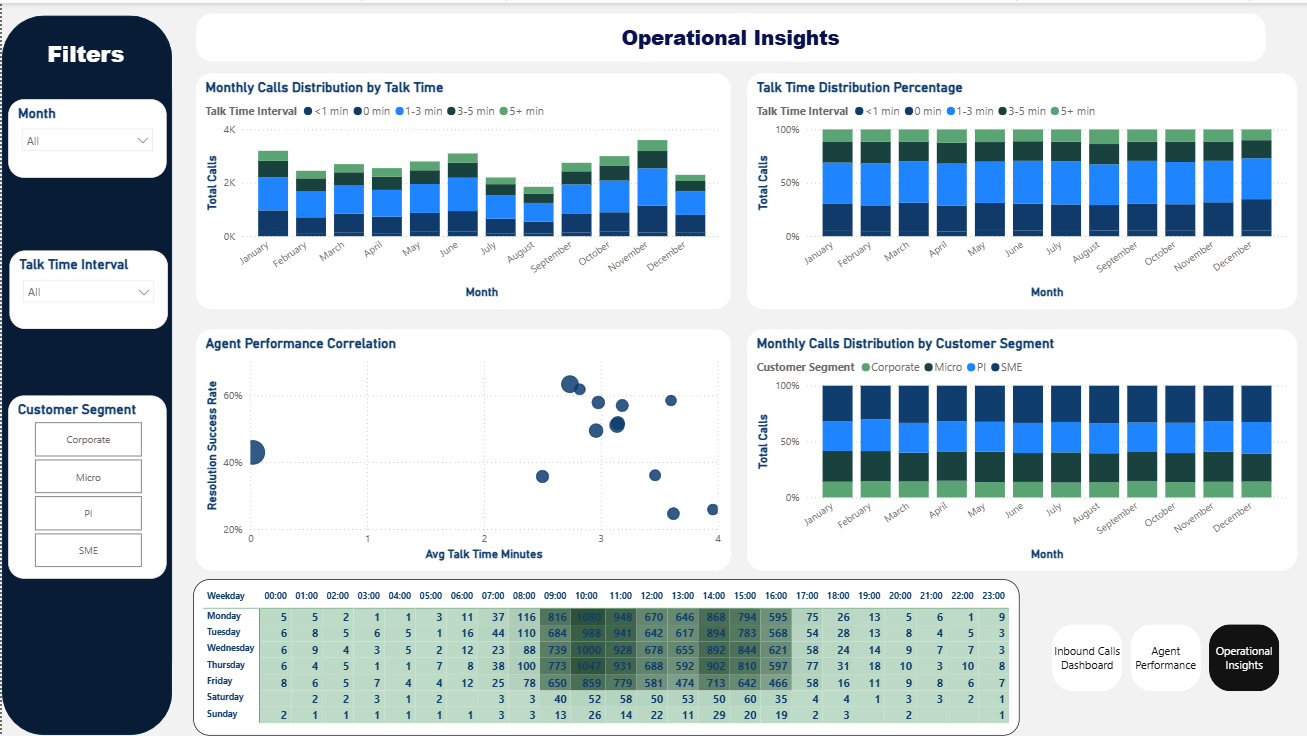

Layout of this report page (visuals, bound fields, positions):
{"tool":"powerbi","page":{"name":"Operational Insights","canvas":[1600,900],"ordinal":2},"visuals":[{"type":"textbox","box":[236.9,12.2,1308.4,59.6],"z":0},{"type":"shape","box":[0,16,208,880],"z":1000},{"type":"slicer","title":"Month","fields":{"Values":["Sheet1.MonthYear"]},"box":[7.1,117.3,193.8,96],"z":2000},{"type":"slicer","title":"Customer Segment","fields":{"Values":["Sheet1.CustomerSegment"]},"box":[7.1,480,193.8,224],"z":3000},{"type":"textbox","box":[39.7,38.2,125.3,65.7],"z":4000},{"type":"slicer","title":"Talk Time Interval","fields":{"Values":["Sheet1.TalkTimeInterval"]},"box":[8.9,302.2,193.8,96],"z":5000},{"type":"columnChart","title":"Monthly Calls Distribution by Talk Time","fields":{"Category":["Sheet1.CallDate.Variation.Date Hierarchy.Month"],"Y":["CountNonNull(Sheet1.CallID)"],"Series":["Sheet1.TalkTimeInterval"]},"box":[236.9,85.6,654.2,288.9],"z":6000},{"type":"hundredPercentStackedColumnChart","title":"Talk Time Distribution Percentage","fields":{"Category":["Sheet1.CallDate.Variation.Date Hierarchy.Month"],"Y":["CountNonNull(Sheet1.CallID)"],"Series":["Sheet1.TalkTimeInterval"]},"box":[911,85.6,672.6,288.9],"z":7000},{"type":"scatterChart","title":"Agent Performance Correlation","fields":{"X":["Sheet1.Avg Talk Time Minutes"],"Y":["Sheet1.Resolution Success Rate"],"Size":["Sheet1.Total Calls"],"Category":["Sheet1.AgentName"]},"box":[236.9,398.9,654.2,295],"z":8000},{"type":"pivotTable","fields":{"Rows":["Sheet1.Weekday"],"Columns":["Sheet1.HourLabel1"],"Values":["CountNonNull(Sheet1.CallID)"]},"box":[233.9,704.7,1010.4,191.1],"z":9000},{"type":"hundredPercentStackedColumnChart","title":"Monthly Calls Distribution by Customer Segment","fields":{"Category":["Sheet1.CallDate.Variation.Date Hierarchy.Month"],"Y":["CountNonNull(Sheet1.CallID)"],"Series":["Sheet1.CustomerSegment"]},"box":[911,398.9,672.6,295],"z":10000},{"type":"pageNavigator","box":[1284,759.7,278.2,82.5],"z":11000}]}

Visuals, with their boxes in screenshot pixels (x1, y1, x2, y2), scaled from the page's 1600x900 canvas onto the 1307x736 screenshot:
textbox: 194 10 1262 59
shape: 0 13 170 733
"Month" slicer: 6 96 164 174
"Customer Segment" slicer: 6 393 164 576
textbox: 32 31 135 85
"Talk Time Interval" slicer: 7 247 166 326
"Monthly Calls Distribution by Talk Time" columnChart: 194 70 728 306
"Talk Time Distribution Percentage" hundredPercentStackedColumnChart: 744 70 1294 306
"Agent Performance Correlation" scatterChart: 194 326 728 567
pivotTable - Sheet1.Weekday x Sheet1.HourLabel1: 191 576 1016 733
"Monthly Calls Distribution by Customer Segment" hundredPercentStackedColumnChart: 744 326 1294 567
pageNavigator: 1049 621 1276 689
